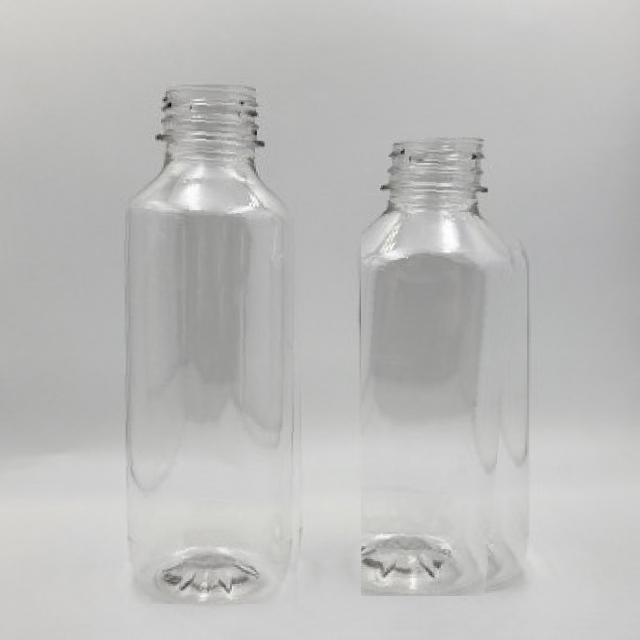plastic bottle: (124, 82, 309, 604), (362, 136, 526, 596)
